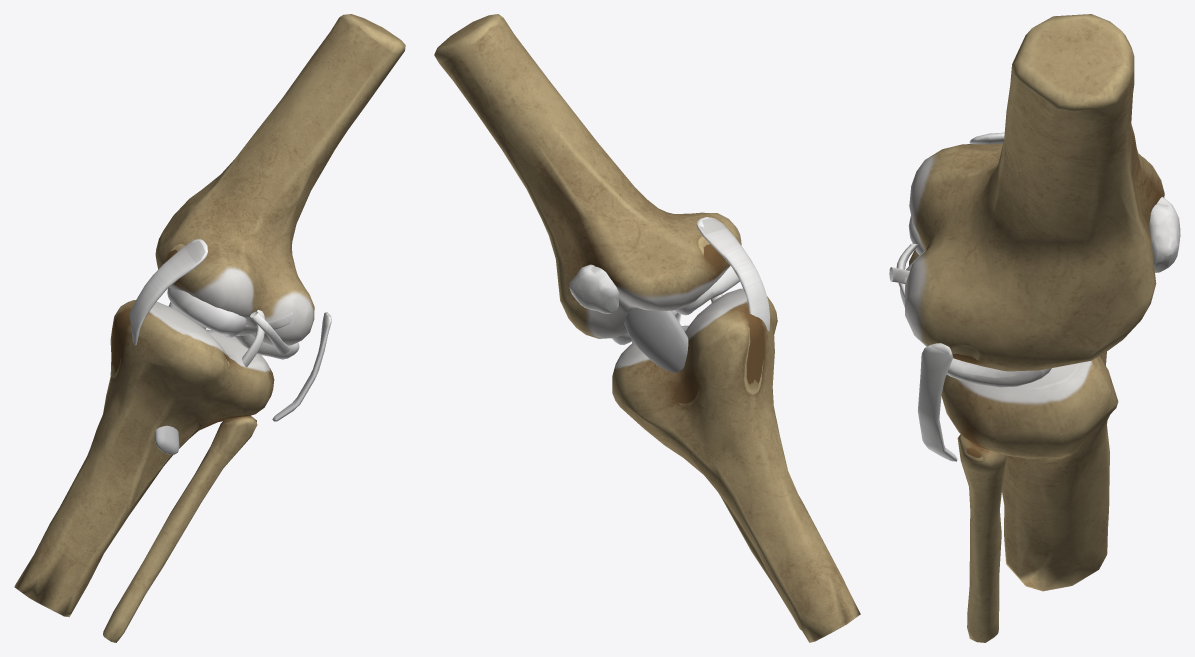
The model's file is rodilla.glb.
The picture shows the model from 3 angles, left to right: view 1: azimuth 30°, elevation 25°; view 2: azimuth 150°, elevation 25°; view 3: azimuth 270°, elevation 25°; orthographic projection. The views are drawn at different scales.
Parts seen in each view (by area): view 1: Rodilla; view 2: Rodilla; view 3: Rodilla.
Part boxes in pixels (bbox=[...]): Rodilla: bbox=[14, 14, 405, 642]; Rodilla: bbox=[434, 14, 860, 642]; Rodilla: bbox=[889, 14, 1180, 642].
Bounding box in the file's own units: 2.54 × 3.36 × 1.07.
Materials: 3 (2 with a texture image).
